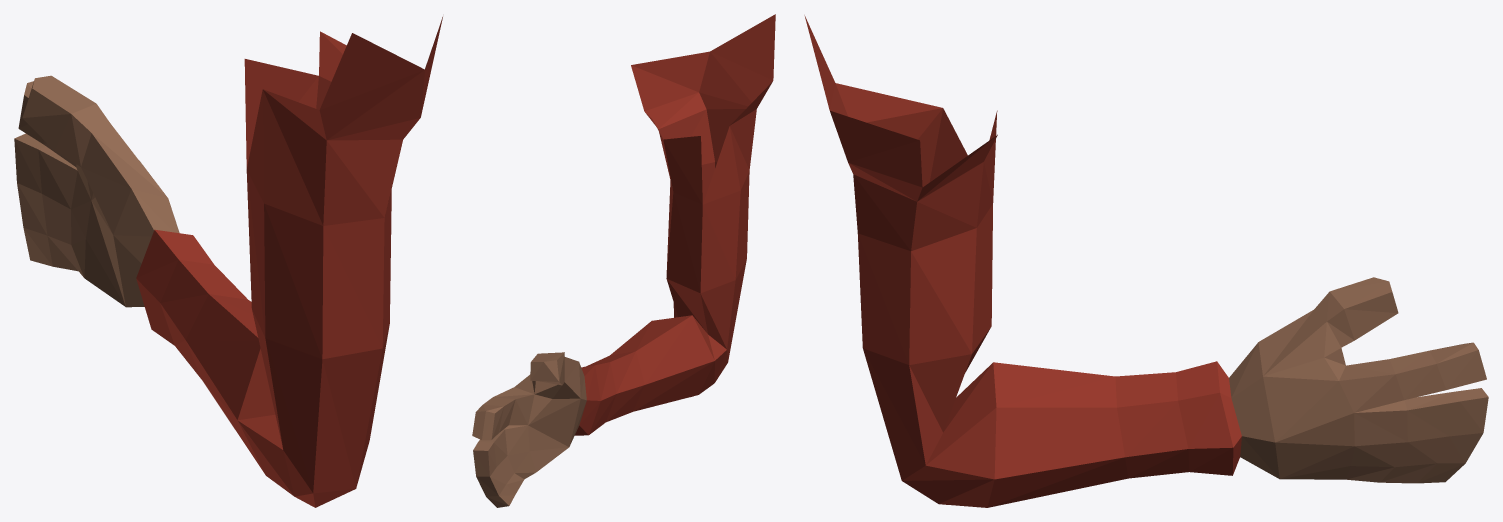
The model's file is Son_01_ArmR_96_01_C.obj.
3 views of the same model, side by side, from view 1: azimuth 30°, elevation 25°; view 2: azimuth 150°, elevation 25°; view 3: azimuth 270°, elevation 25° (orthographic). The views are drawn at different scales.
Visible parts, largest first — view 1: Son_01_ArmR_96_01_C; view 2: Son_01_ArmR_96_01_C; view 3: Son_01_ArmR_96_01_C.
Boxes of the visible parts, bbox=[...] form: Son_01_ArmR_96_01_C: bbox=[14, 17, 442, 507]; Son_01_ArmR_96_01_C: bbox=[472, 14, 775, 507]; Son_01_ArmR_96_01_C: bbox=[804, 15, 1488, 507].
Bounding box in the file's own units: 0.1573 × 0.469 × 0.6171.
Materials: 1 (1 with a texture image).
